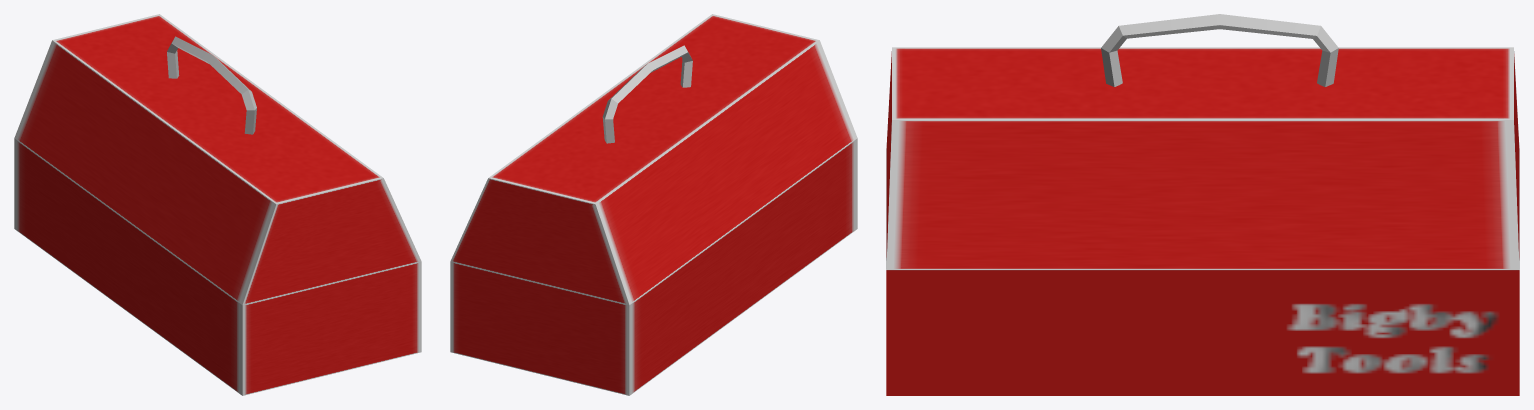
Rendered from Toolbox.FBX.
The picture shows the model from 3 angles, left to right: view 1: azimuth 30°, elevation 25°; view 2: azimuth 150°, elevation 25°; view 3: azimuth 270°, elevation 25°; orthographic projection. The views are drawn at different scales.
Parts seen in each view (by area): view 1: Box001, LadderRung071; view 2: Box001, LadderRung071; view 3: Box001, LadderRung071.
Boxes of the visible parts, box(x1,y1,x2,y2) form: Box001: box(14, 14, 421, 395); LadderRung071: box(167, 36, 256, 134); Box001: box(450, 14, 857, 395); LadderRung071: box(602, 45, 692, 143); Box001: box(886, 47, 1519, 395); LadderRung071: box(1101, 14, 1338, 86).
Size of the model in its own units: 0.0859 by 0.1061 by 0.1895.
